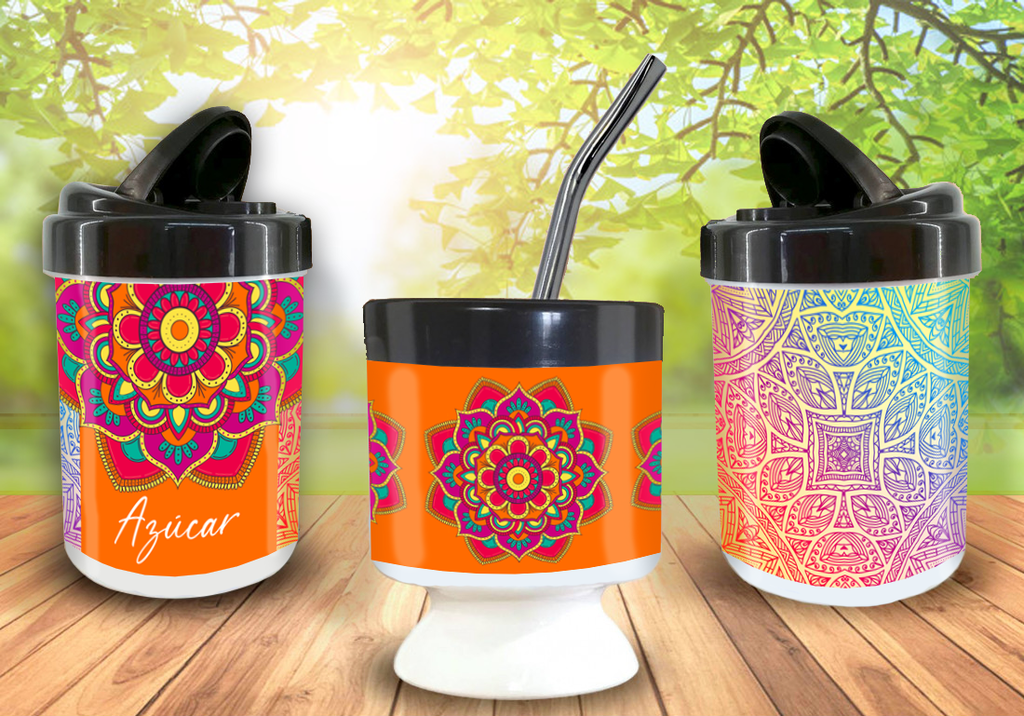mate: (359, 53, 666, 701)
plastico: (357, 51, 664, 699)
